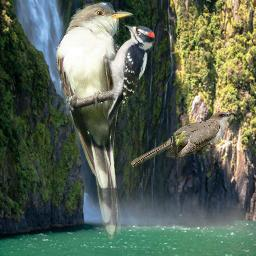Cuckoo: (56, 1, 134, 241), (130, 111, 234, 167)
Woodpecker: (103, 22, 157, 125)
